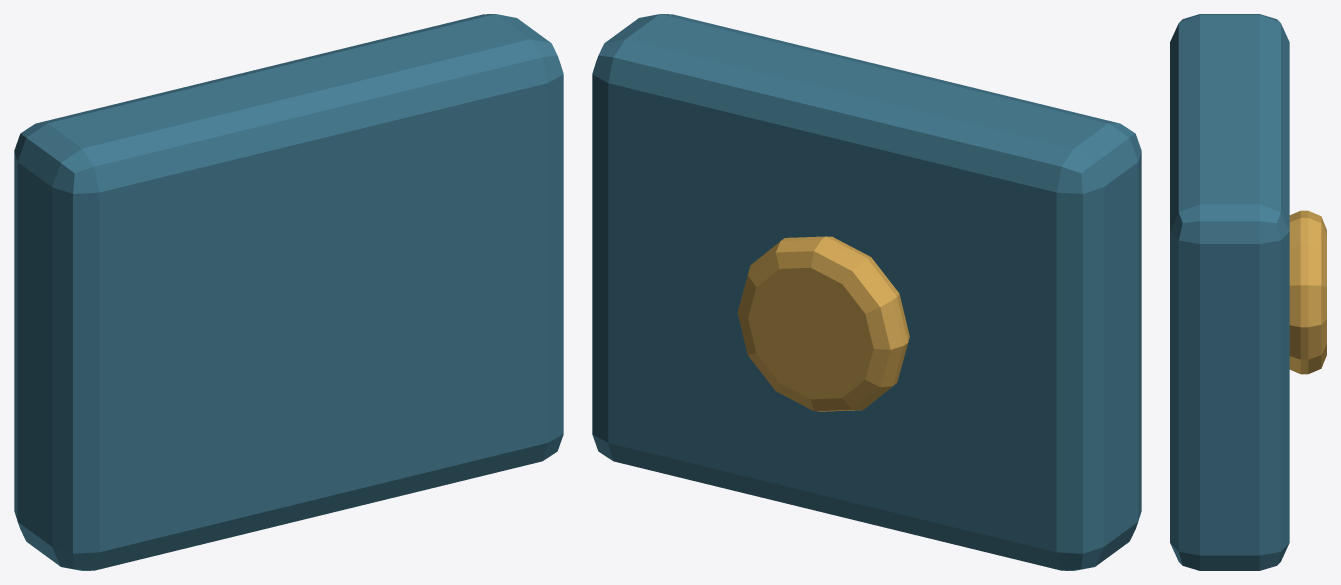
Rendered from module_document_safe_v01.glb.
3 views of the same model, side by side, from view 1: azimuth 30°, elevation 25°; view 2: azimuth 150°, elevation 25°; view 3: azimuth 270°, elevation 25° (orthographic). The views are drawn at different scales.
Visible parts, largest first — view 1: GEO_DocumentSafe; view 2: GEO_DocumentSafe, GEO_DocumentDial; view 3: GEO_DocumentSafe, GEO_DocumentDial.
Part boxes in pixels (x1=…): GEO_DocumentSafe: x1=14, y1=14, x2=563, y2=570; GEO_DocumentSafe: x1=592, y1=14, x2=1141, y2=570; GEO_DocumentDial: x1=737, y1=236, x2=909, y2=411; GEO_DocumentSafe: x1=1170, y1=14, x2=1289, y2=570; GEO_DocumentDial: x1=1289, y1=210, x2=1326, y2=374.
Bounding box in the file's own units: 0.68 × 0.54 × 0.21.
